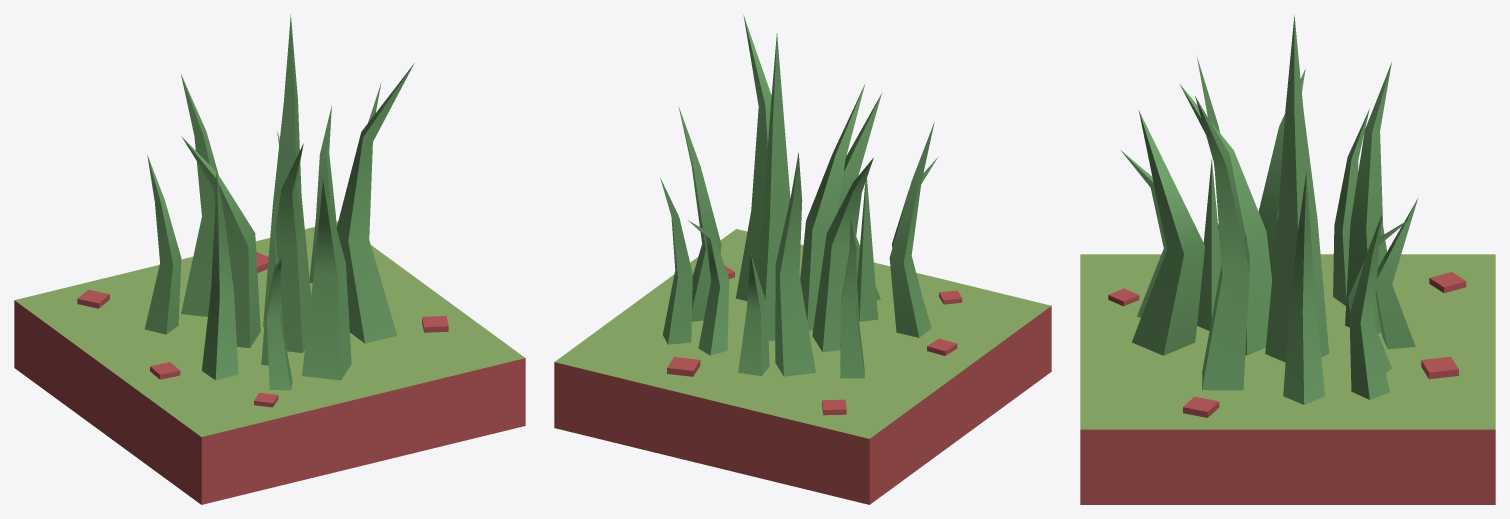
The model's file is md_grasstile.fbx.
The picture shows the model from 3 angles, left to right: view 1: azimuth 30°, elevation 25°; view 2: azimuth 150°, elevation 25°; view 3: azimuth 270°, elevation 25°; orthographic projection. The views are drawn at different scales.
Parts seen in each view (by area): view 1: pCube16; view 2: pCube16; view 3: pCube16.
Part boxes in pixels (box(x1,y1,x2,y2)): pCube16: box(14, 14, 525, 504); pCube16: box(554, 15, 1051, 504); pCube16: box(1080, 14, 1495, 504).
Size of the model in its own units: 500 by 553 by 500.
